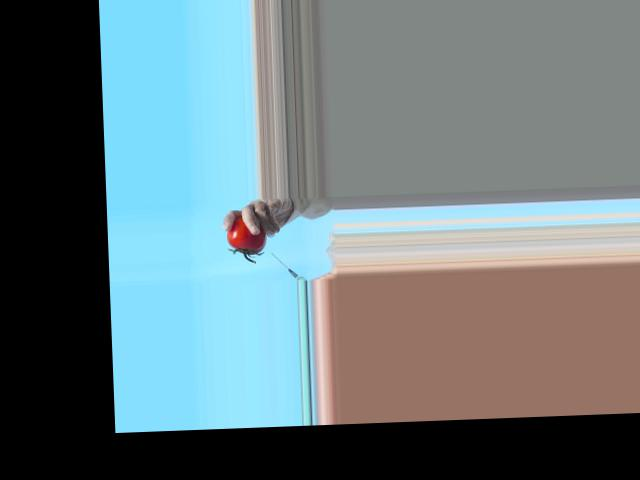tomato: (225, 215, 266, 255)
